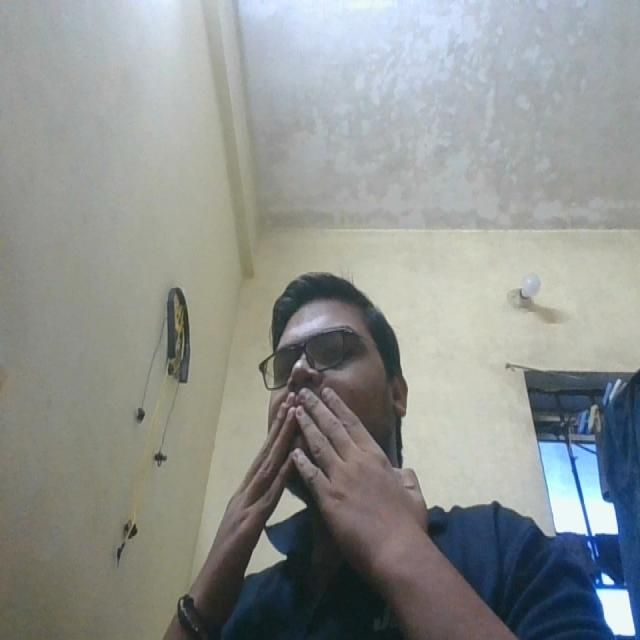Thanks: (194, 369, 435, 595)
